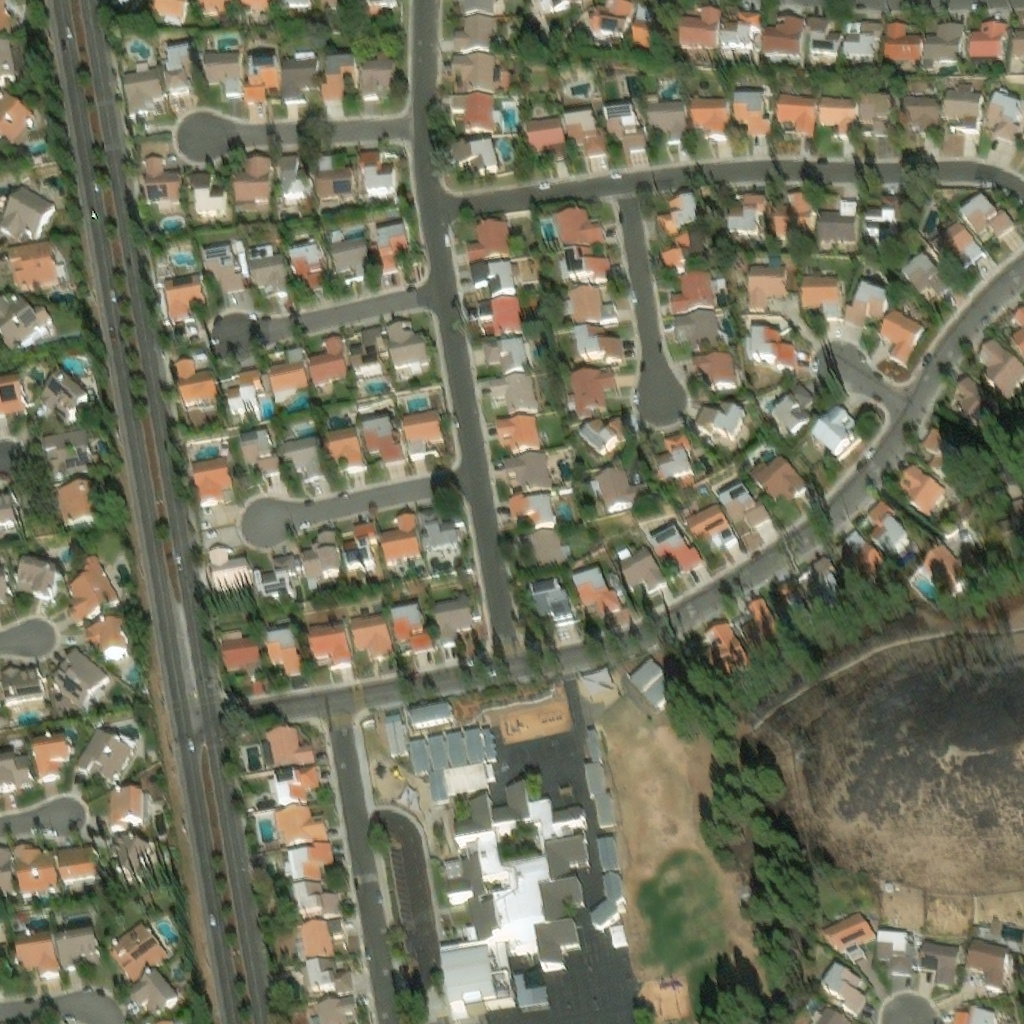0 no-damage: (476, 824, 553, 953), (438, 938, 515, 1019), (441, 854, 502, 945), (65, 548, 119, 624), (408, 729, 497, 773), (108, 918, 169, 982), (46, 644, 108, 705), (570, 568, 635, 623), (0, 182, 57, 244), (72, 726, 136, 781), (718, 481, 772, 545), (0, 290, 56, 349), (919, 541, 981, 594), (956, 192, 1017, 245), (529, 801, 585, 857), (930, 221, 984, 276), (822, 906, 875, 962), (387, 322, 434, 384), (748, 452, 808, 500), (772, 573, 820, 633), (735, 594, 783, 651), (6, 236, 58, 288), (684, 500, 737, 551), (627, 657, 681, 707), (38, 366, 88, 420), (257, 725, 318, 769), (976, 335, 1023, 392), (702, 617, 749, 672), (918, 423, 968, 474), (650, 431, 696, 486), (895, 458, 944, 509), (169, 353, 218, 404), (571, 370, 619, 422), (12, 842, 59, 895), (879, 309, 925, 363), (43, 477, 94, 525), (951, 370, 998, 422), (39, 423, 91, 470), (12, 551, 64, 598), (294, 915, 347, 961), (162, 267, 207, 320), (772, 383, 816, 437), (863, 495, 907, 549), (823, 965, 867, 1019), (803, 550, 846, 605), (272, 804, 328, 846), (206, 543, 253, 593), (811, 405, 857, 456), (650, 526, 702, 570), (693, 401, 746, 444), (598, 471, 652, 513), (14, 928, 60, 977), (902, 253, 953, 297), (840, 526, 884, 577), (328, 234, 379, 278), (283, 838, 334, 882), (122, 58, 162, 114), (127, 967, 179, 1010), (841, 281, 888, 328), (658, 228, 706, 274), (983, 82, 1021, 140), (269, 344, 309, 399), (554, 207, 606, 249), (300, 528, 342, 580), (289, 881, 342, 922), (289, 992, 359, 1023), (281, 434, 327, 481), (106, 834, 152, 881), (673, 308, 721, 353), (530, 578, 575, 626), (534, 920, 579, 968), (433, 596, 477, 645), (616, 545, 666, 588), (351, 326, 391, 379), (772, 83, 817, 130), (669, 269, 716, 314), (489, 375, 538, 418), (220, 625, 263, 674), (271, 763, 320, 806), (450, 139, 502, 179), (562, 110, 607, 156), (478, 297, 524, 342), (391, 604, 436, 650), (653, 192, 700, 236), (307, 618, 351, 665), (605, 104, 648, 152), (420, 508, 463, 556), (591, 0, 638, 43), (467, 221, 515, 263), (282, 48, 320, 101), (581, 416, 630, 457), (381, 516, 422, 565), (941, 76, 981, 126), (234, 156, 273, 207), (322, 426, 367, 470), (546, 838, 589, 884), (191, 453, 233, 500), (350, 611, 392, 658), (454, 796, 496, 843), (505, 453, 553, 494), (288, 240, 329, 288), (54, 928, 102, 969), (967, 933, 1005, 984), (400, 412, 444, 456), (246, 249, 291, 292), (773, 189, 815, 235), (363, 420, 405, 466), (342, 518, 379, 570), (519, 531, 567, 571), (450, 54, 499, 93), (541, 881, 585, 924), (254, 548, 301, 588), (306, 957, 353, 997), (917, 935, 956, 983), (310, 338, 349, 386), (591, 872, 625, 927), (57, 843, 101, 885), (644, 93, 685, 138), (873, 927, 914, 972), (631, 0, 670, 47), (748, 268, 787, 315), (320, 55, 359, 102), (264, 627, 303, 674), (508, 493, 556, 531), (674, 0, 718, 41), (728, 188, 769, 232), (239, 429, 280, 473), (920, 9, 956, 59), (243, 55, 281, 102), (491, 783, 532, 826), (450, 93, 494, 133), (689, 90, 728, 135), (143, 155, 182, 200), (838, 5, 876, 51), (483, 341, 531, 377), (753, 330, 797, 369), (358, 152, 397, 196), (31, 733, 70, 777), (899, 86, 937, 131), (472, 260, 517, 298), (497, 416, 542, 454), (226, 366, 264, 411), (815, 87, 855, 129), (377, 226, 412, 274), (758, 2, 797, 45), (878, 6, 916, 50), (361, 52, 397, 98), (524, 116, 567, 154), (818, 197, 856, 240), (83, 617, 126, 655), (731, 85, 767, 130), (692, 350, 737, 386), (453, 15, 496, 52), (576, 329, 624, 362), (0, 749, 33, 796), (190, 171, 226, 214), (718, 0, 756, 40), (568, 286, 605, 327), (277, 154, 313, 196), (800, 0, 835, 42), (162, 45, 195, 89), (965, 8, 1001, 48), (443, 762, 488, 794), (855, 86, 890, 127), (866, 192, 901, 232), (514, 968, 549, 1008), (108, 788, 143, 826), (202, 47, 241, 79), (408, 700, 453, 727), (802, 277, 840, 307), (317, 167, 355, 197), (0, 38, 23, 86), (1, 664, 41, 691), (201, 236, 233, 268), (384, 711, 407, 753), (0, 370, 24, 410), (0, 490, 18, 535), (583, 762, 606, 796), (950, 1005, 993, 1023), (595, 792, 616, 828), (1008, 303, 1023, 353), (0, 847, 15, 897), (597, 837, 618, 871), (152, 0, 187, 20), (453, 0, 496, 15), (993, 477, 1021, 500), (810, 1008, 852, 1023), (428, 771, 448, 802), (587, 258, 611, 282), (1010, 5, 1023, 49), (542, 0, 589, 12), (0, 0, 17, 33), (240, 0, 279, 14), (587, 731, 602, 762), (368, 0, 394, 17), (279, 0, 312, 12), (198, 0, 233, 11), (0, 561, 5, 607), (485, 763, 495, 779), (321, 0, 342, 7)
